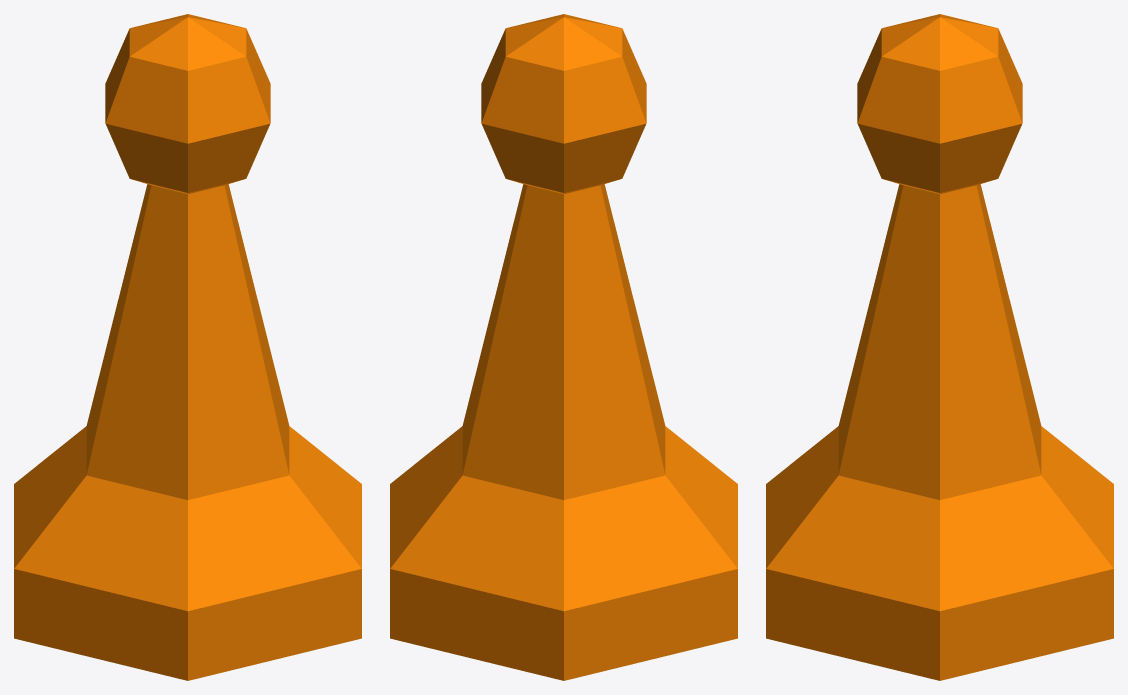
File: Boardgame_Player_Piece_General_Orange_01.fbx
3 views of the same model, side by side, from view 1: azimuth 30°, elevation 25°; view 2: azimuth 150°, elevation 25°; view 3: azimuth 270°, elevation 25° (orthographic).
Visible parts, largest first — view 1: Model; view 2: Model; view 3: Model.
Boxes of the visible parts, x1,y1,x2,y2 form: Model: (14, 14, 361, 680); Model: (390, 14, 737, 680); Model: (766, 14, 1113, 680).
Bounding box in the file's own units: 187 × 297 × 162.
